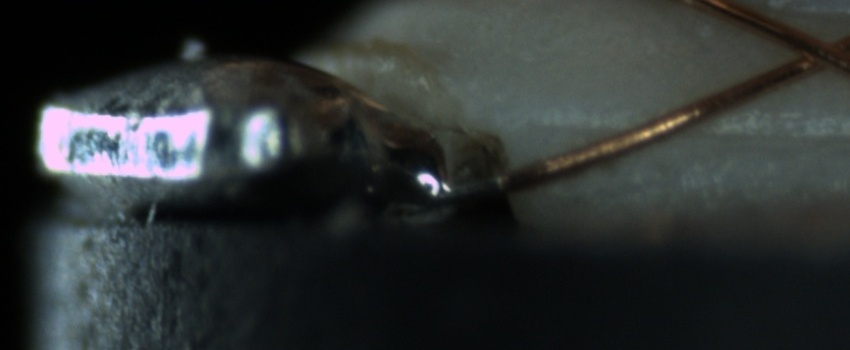CL: (771, 21, 848, 80)
DL: (548, 100, 848, 162)
